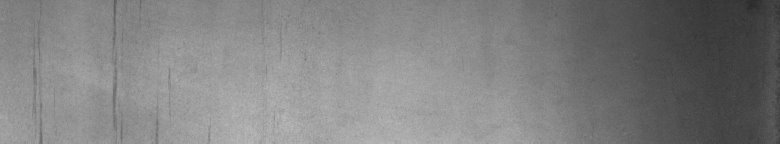ka: (108, 4, 170, 136)
